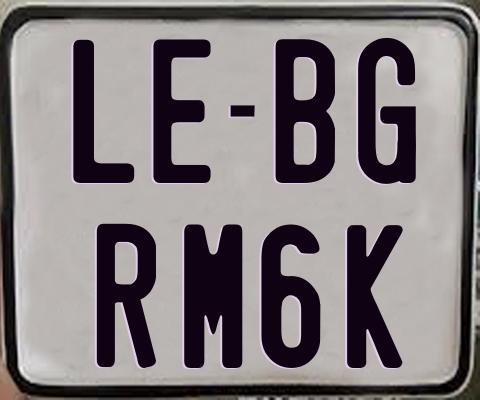6: (259, 221, 319, 369)
B: (276, 38, 338, 184)
E: (152, 38, 213, 186)
G: (358, 36, 417, 182)
K: (347, 222, 404, 371)
L: (71, 37, 134, 181)
M: (184, 221, 249, 370)
R: (95, 224, 160, 370)
